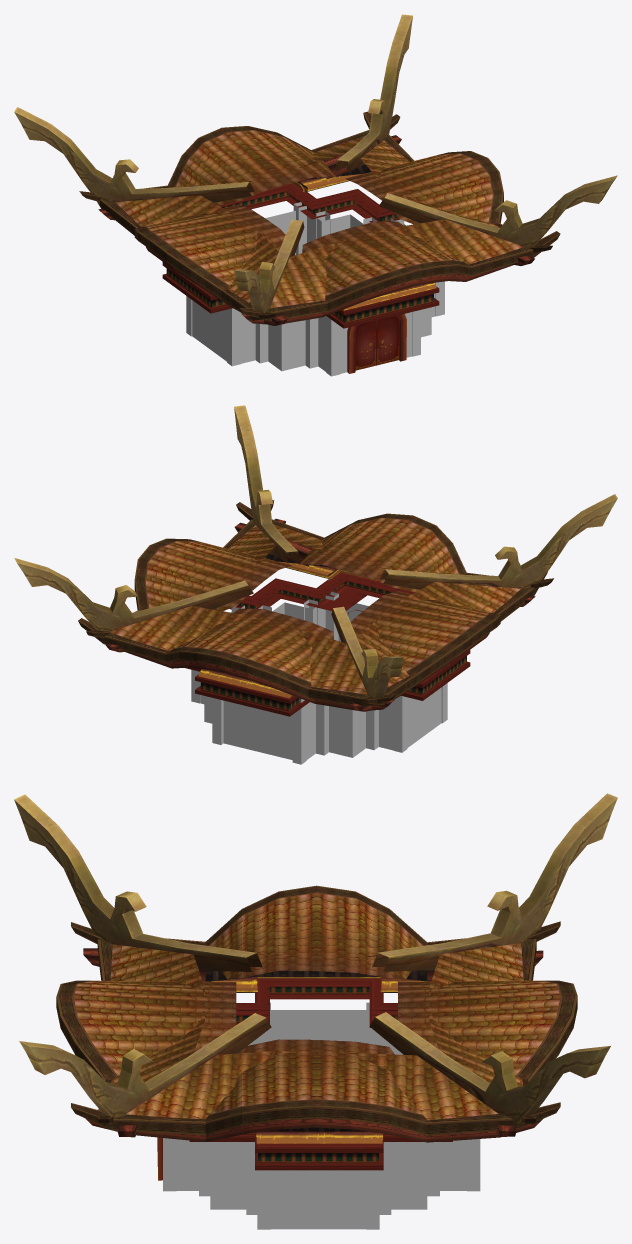
File: environment_Building_zhucheng_tower_001_d.FBX
3 views of the same model, one above another, from view 1: azimuth 30°, elevation 25°; view 2: azimuth 150°, elevation 25°; view 3: azimuth 270°, elevation 25° (orthographic). The views are drawn at different scales.
Parts seen in each view (by area): view 1: environment_Building_zhucheng_tower_001_d01, environment_Building_zhucheng_tower_001_d04, environment_Building_zhucheng_tower_001_d07, environment_Building_zhucheng_tower_001_d03, environment_Building_zhucheng_tower_001_d02, environment_Building_zhucheng_tower_001_d06, environment_Building_zhucheng_tower_001_d05; view 2: environment_Building_zhucheng_tower_001_d01, environment_Building_zhucheng_tower_001_d04, environment_Building_zhucheng_tower_001_d03, environment_Building_zhucheng_tower_001_d07, environment_Building_zhucheng_tower_001_d02, environment_Building_zhucheng_tower_001_d05; view 3: environment_Building_zhucheng_tower_001_d01, environment_Building_zhucheng_tower_001_d04, environment_Building_zhucheng_tower_001_d03, environment_Building_zhucheng_tower_001_d07, environment_Building_zhucheng_tower_001_d02, environment_Building_zhucheng_tower_001_d05.
Part boxes in pixels (box(x1,y1,x2,y2)): environment_Building_zhucheng_tower_001_d01: box(116, 130, 523, 308); environment_Building_zhucheng_tower_001_d04: box(14, 14, 617, 313); environment_Building_zhucheng_tower_001_d07: box(79, 111, 560, 373); environment_Building_zhucheng_tower_001_d03: box(186, 202, 444, 376); environment_Building_zhucheng_tower_001_d02: box(162, 183, 439, 328); environment_Building_zhucheng_tower_001_d06: box(355, 315, 399, 370); environment_Building_zhucheng_tower_001_d05: box(291, 164, 436, 310); environment_Building_zhucheng_tower_001_d01: box(111, 518, 520, 694); environment_Building_zhucheng_tower_001_d04: box(14, 405, 617, 698); environment_Building_zhucheng_tower_001_d03: box(191, 592, 447, 764); environment_Building_zhucheng_tower_001_d07: box(78, 500, 553, 711); environment_Building_zhucheng_tower_001_d02: box(185, 572, 470, 716); environment_Building_zhucheng_tower_001_d05: box(198, 554, 375, 698); environment_Building_zhucheng_tower_001_d01: box(74, 893, 560, 1120); environment_Building_zhucheng_tower_001_d04: box(14, 793, 617, 1124); environment_Building_zhucheng_tower_001_d03: box(163, 1002, 480, 1229); environment_Building_zhucheng_tower_001_d07: box(56, 885, 577, 1180); environment_Building_zhucheng_tower_001_d02: box(189, 978, 452, 1170); environment_Building_zhucheng_tower_001_d05: box(205, 970, 427, 1143).
Bounding box in the file's own units: 2372 × 1039 × 2341.
